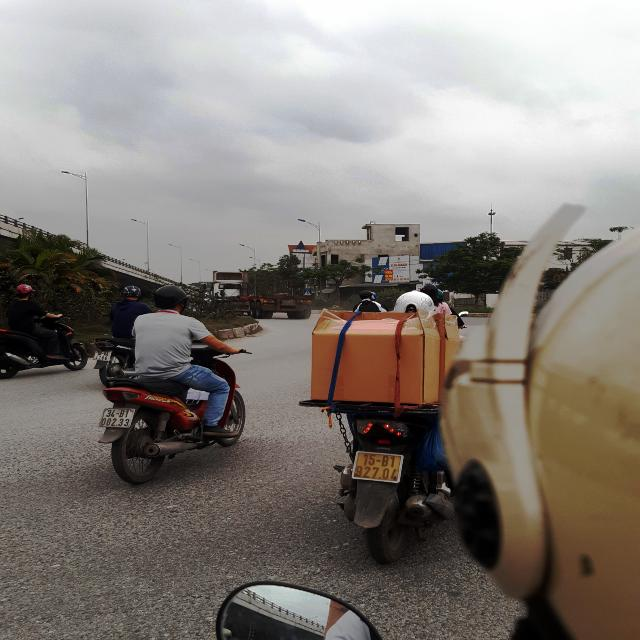license_plate: (351, 451, 405, 484), (98, 408, 137, 431)
